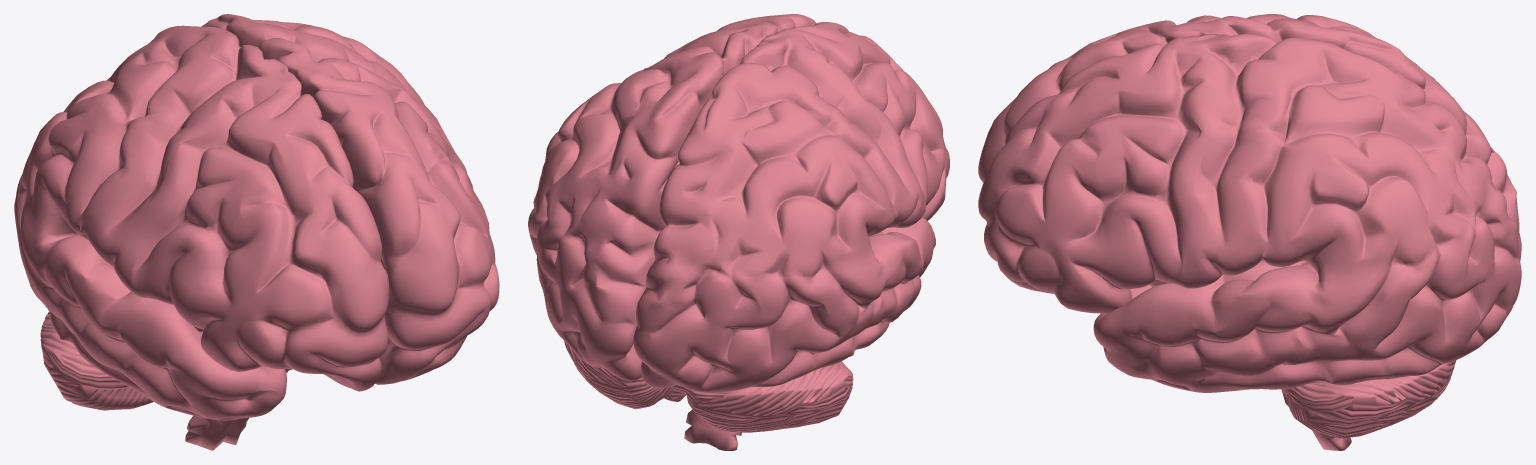
The model's file is brain.glb.
3 views of the same model, side by side, from view 1: azimuth 30°, elevation 25°; view 2: azimuth 150°, elevation 25°; view 3: azimuth 270°, elevation 25° (orthographic). The views are drawn at different scales.
Parts seen in each view (by area): view 1: Brain_Part_06, Brain_Part_04.001, Brain_Part_02, Brain_Part_05; view 2: Brain_Part_06, Brain_Part_04.001, Brain_Part_02, Brain_Part_05; view 3: Brain_Part_04.001, Brain_Part_06, Brain_Part_02, Brain_Part_05.
Boxes of the visible parts, left/top/right/bottom form: Brain_Part_06: left=14, top=25, right=388, bottom=420; Brain_Part_04.001: left=201, top=14, right=499, bottom=384; Brain_Part_02: left=40, top=312, right=292, bottom=410; Brain_Part_05: left=185, top=326, right=289, bottom=450; Brain_Part_06: left=633, top=22, right=949, bottom=392; Brain_Part_04.001: left=528, top=14, right=816, bottom=381; Brain_Part_02: left=564, top=341, right=853, bottom=432; Brain_Part_05: left=684, top=409, right=741, bottom=450; Brain_Part_04.001: left=978, top=33, right=1521, bottom=392; Brain_Part_06: left=978, top=14, right=1521, bottom=260; Brain_Part_02: left=1283, top=360, right=1456, bottom=438; Brain_Part_05: left=1149, top=259, right=1351, bottom=450.
Bounding box in the file's own units: 3.8 × 4.02 × 4.73.
